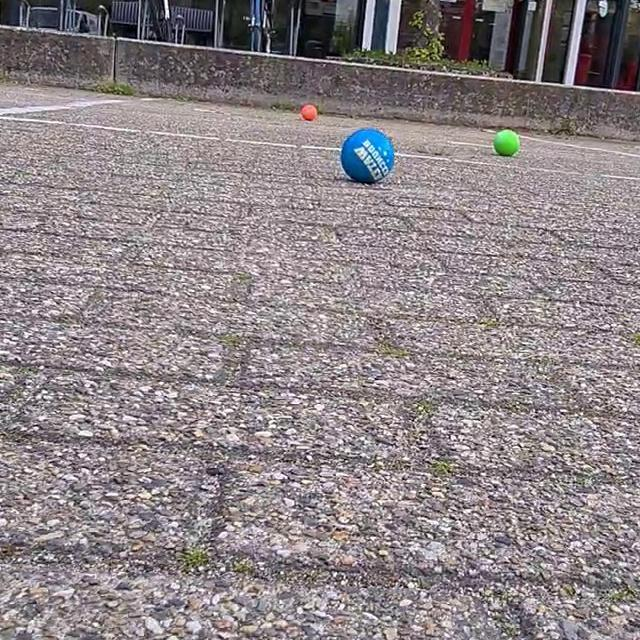ball: (489, 125, 522, 160), (298, 99, 320, 126)
